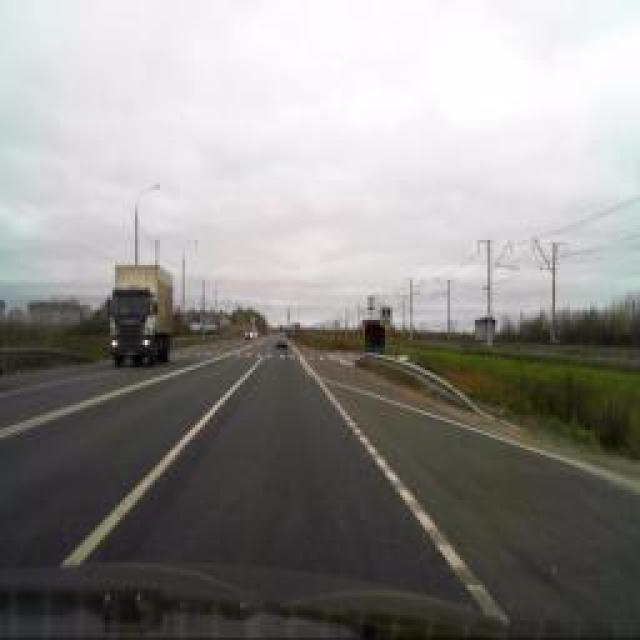sign: (380, 306, 392, 326)
